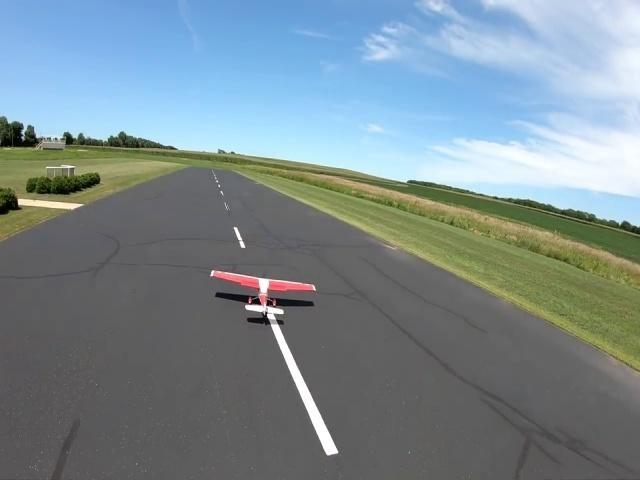Airplane: (209, 268, 317, 320)
